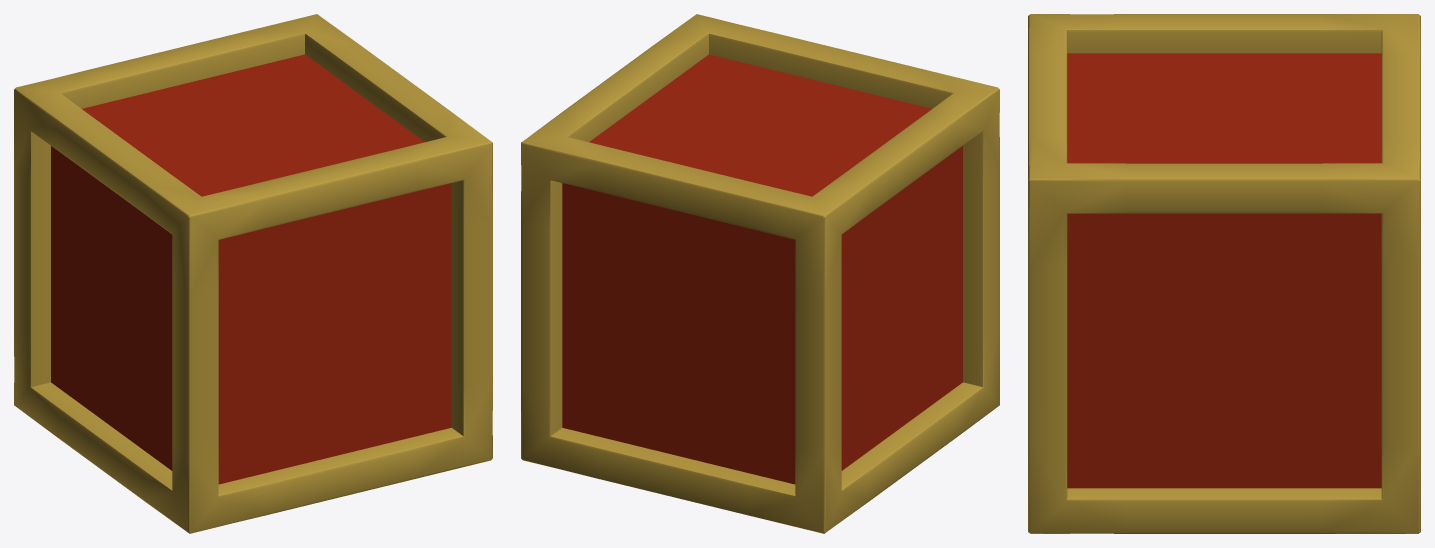
Rendered from crate.fbx.
The picture shows the model from 3 angles, left to right: view 1: azimuth 30°, elevation 25°; view 2: azimuth 150°, elevation 25°; view 3: azimuth 270°, elevation 25°; orthographic projection. The views are drawn at different scales.
Visible parts, largest first — view 1: Crate_02; view 2: Crate_02; view 3: Crate_02.
Boxes of the visible parts, left/top/right/bottom form: Crate_02: left=14, top=14, right=492, bottom=533; Crate_02: left=521, top=14, right=999, bottom=533; Crate_02: left=1028, top=14, right=1420, bottom=533.
Size of the model in its own units: 139 by 139 by 139.
